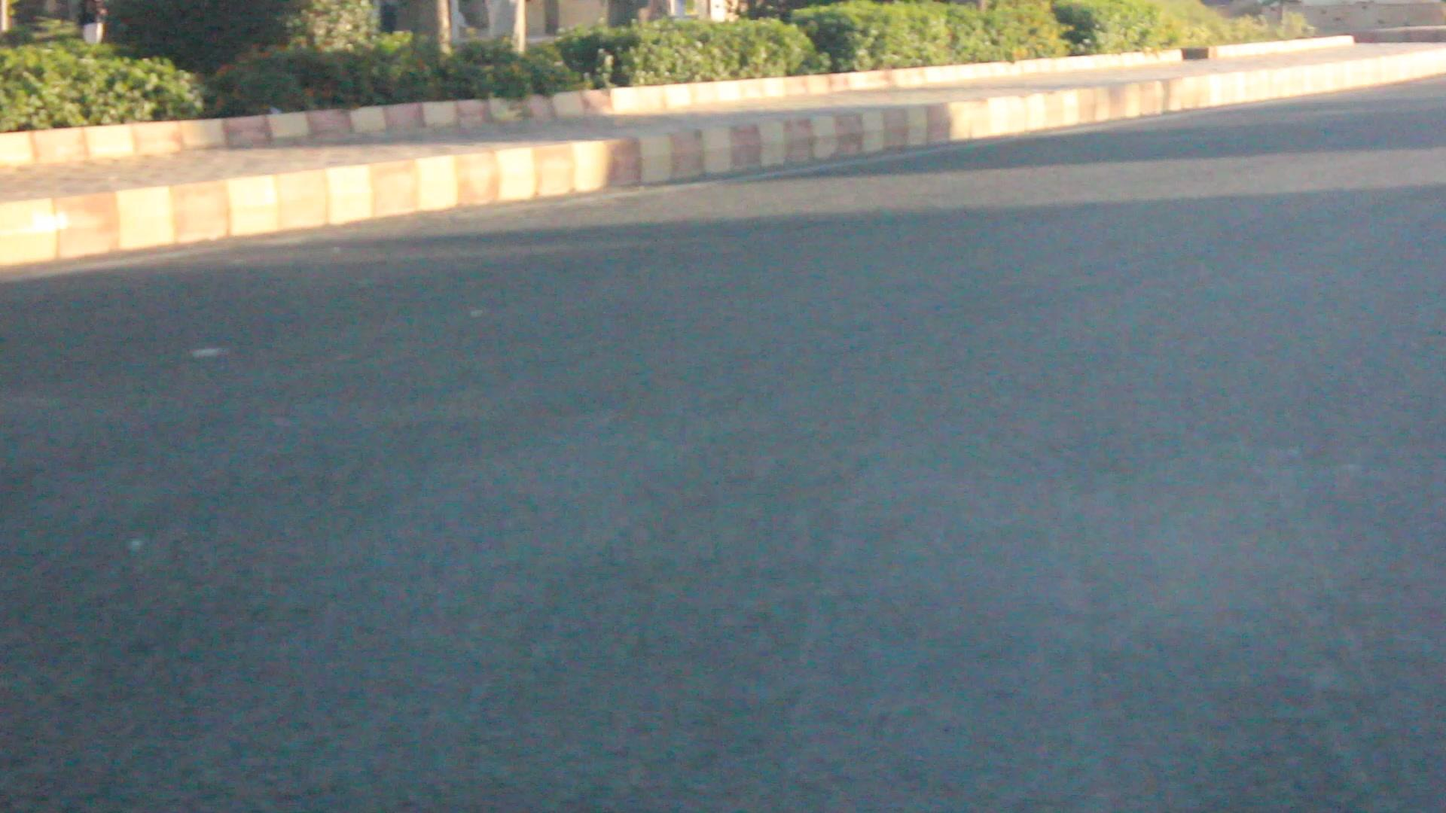Bump: (0, 422, 1445, 812)
